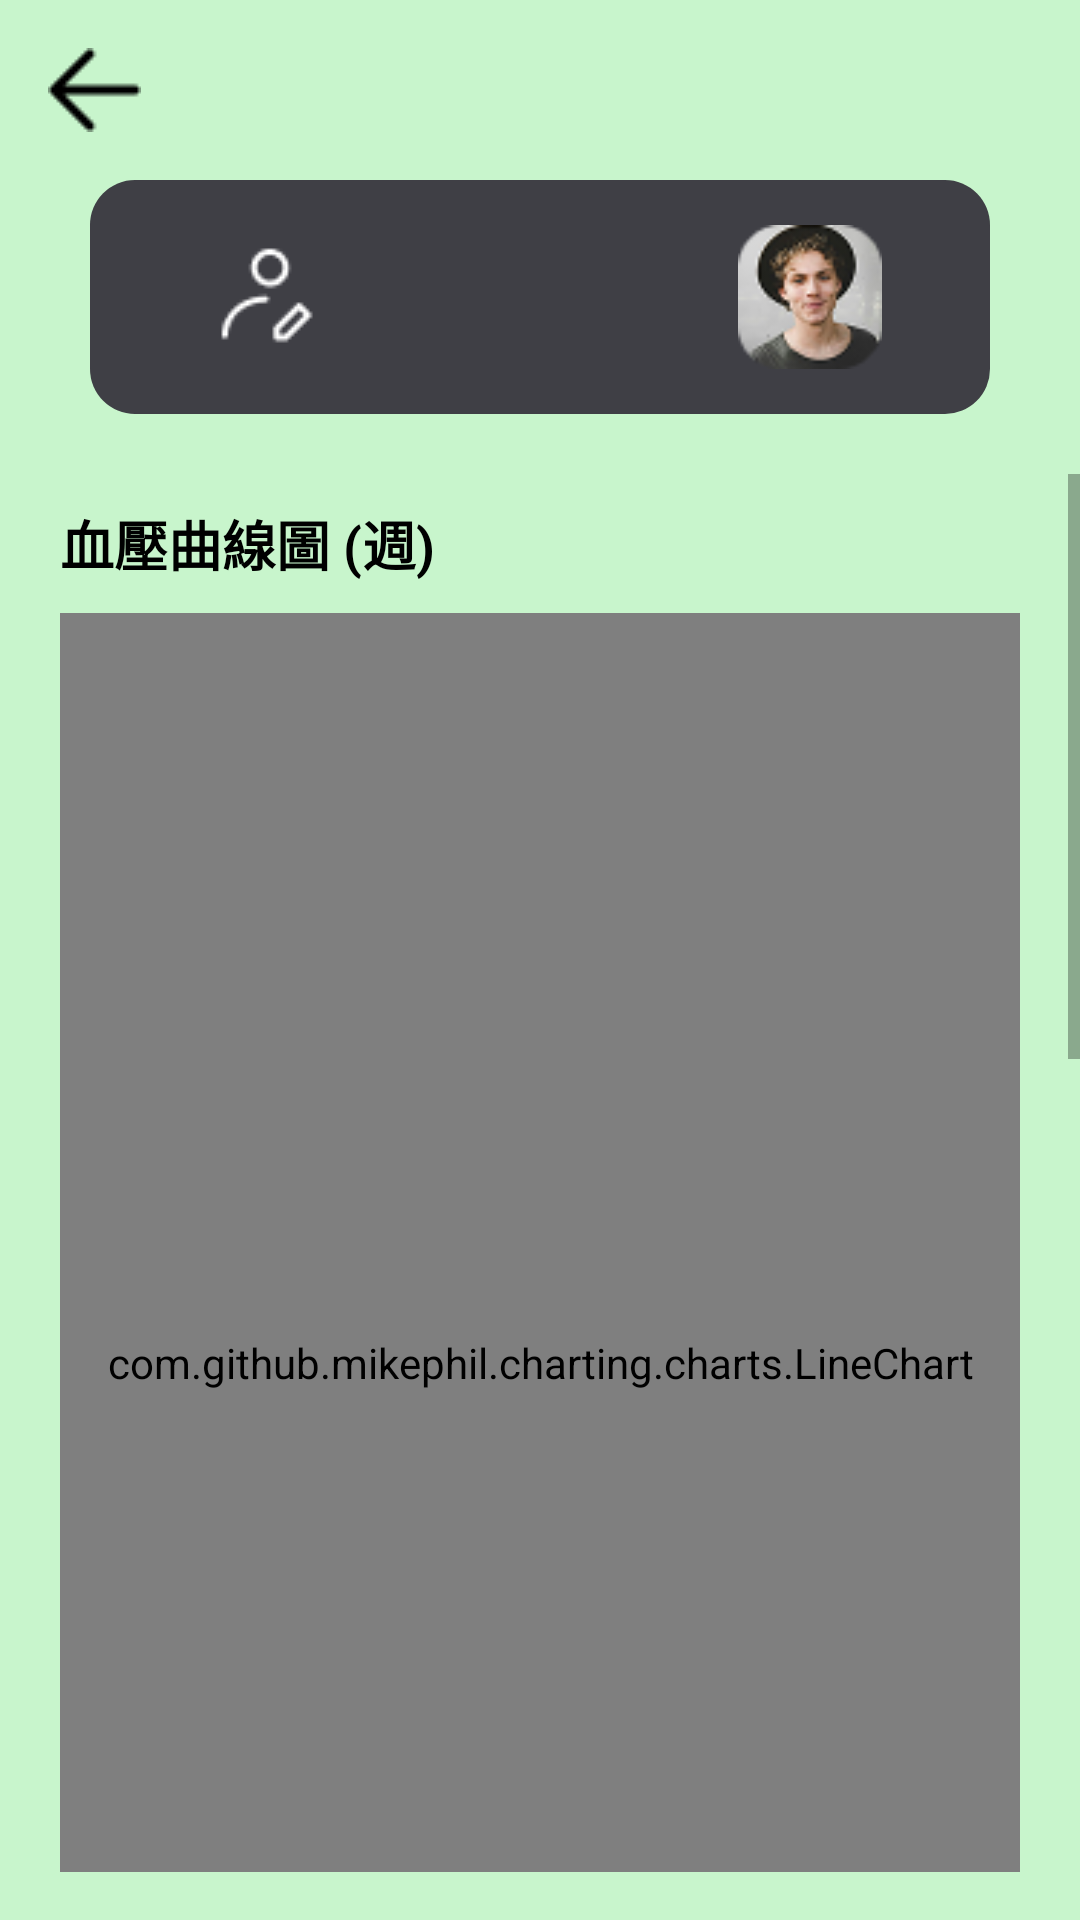

Where icons sit on this 1080x1920 app screen, as [x1,y1,x2,y2]:
back: [48,48,141,132]
user photo: [738,225,882,369]
